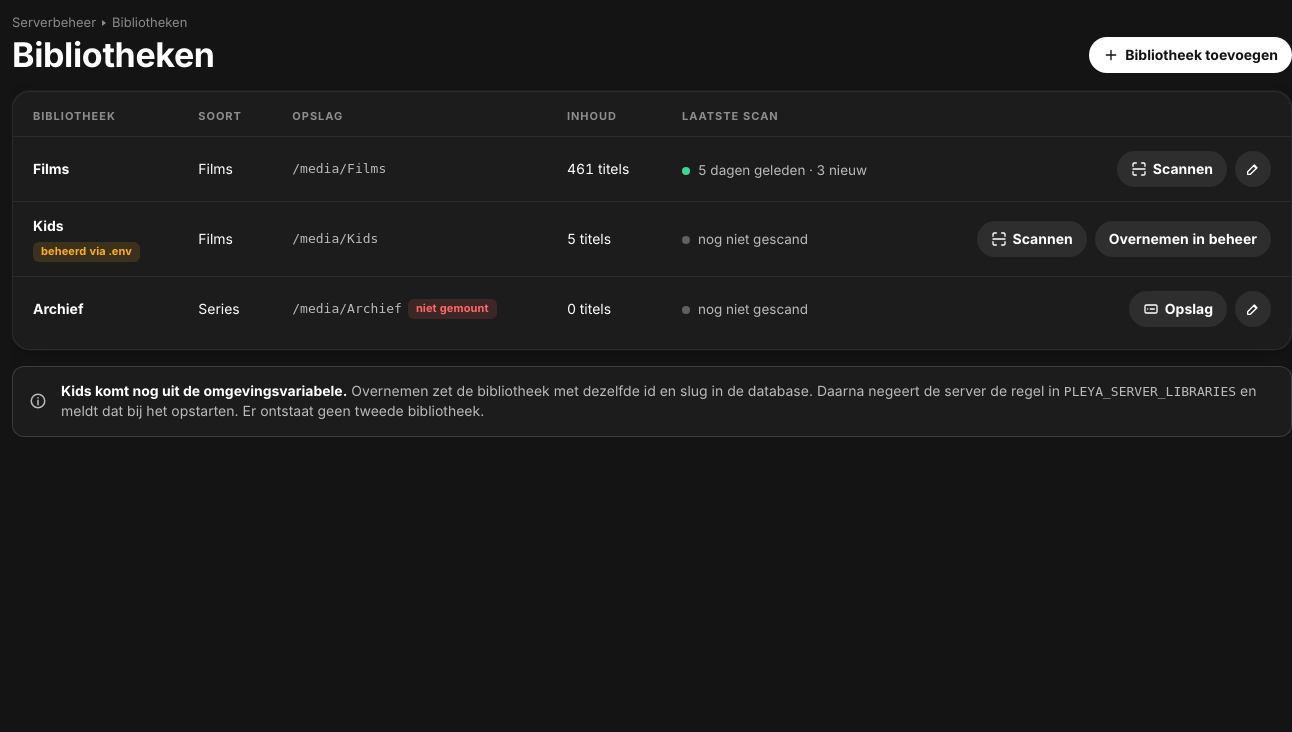
Test: scherm 21, bibliotheken › wijst bij een lopende scan naar Scans en taken
This screenshot has width=1292, height=732.
Click the button with aria-label "Films scannen" at (1172, 169), box [1117,151,1227,187]
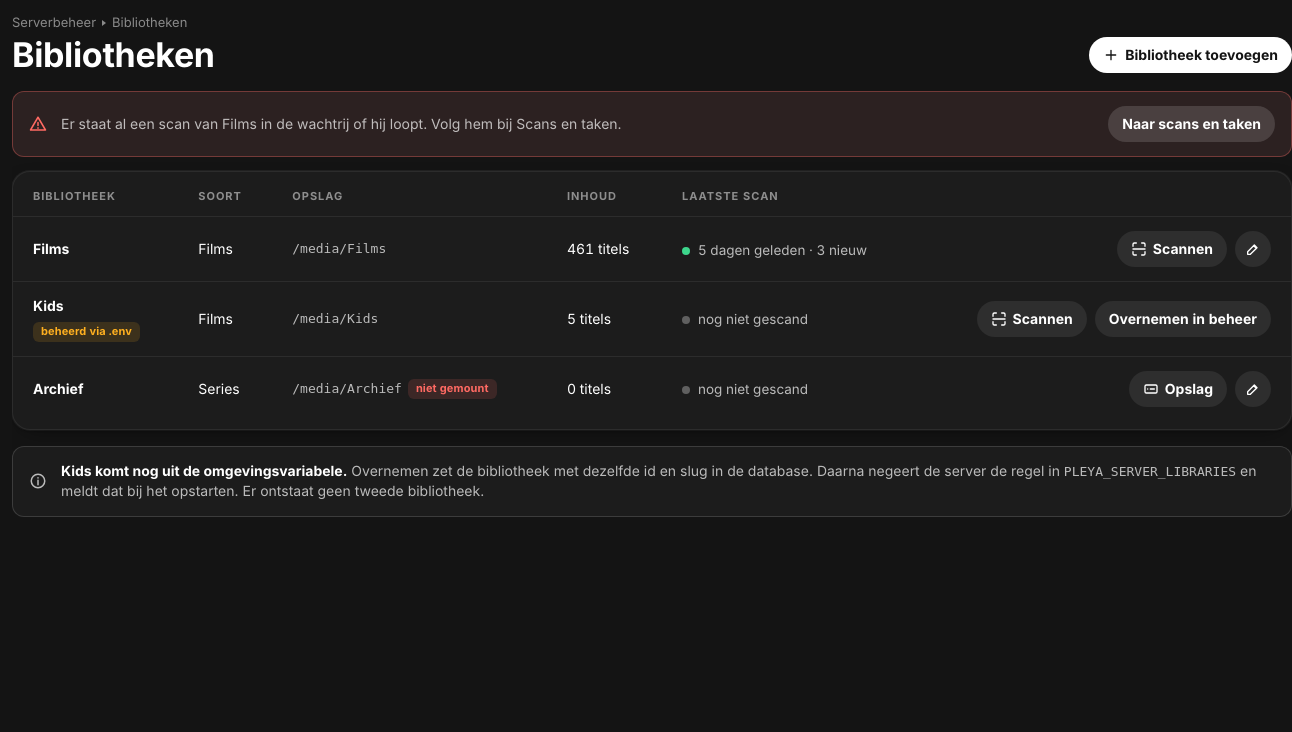
Check: the message shows "Er staat al een scan van Films in de wachtrij", box [61,115,622,132]
